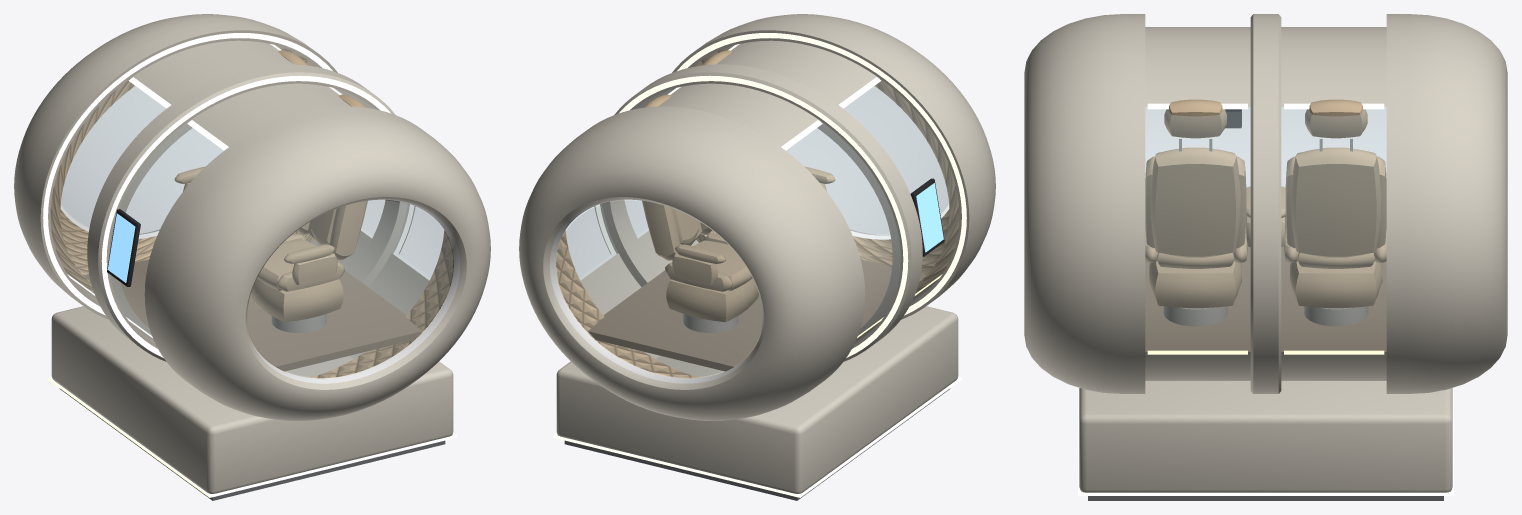
File: duo-v3.glb
3 views of the same model, side by side, from view 1: azimuth 30°, elevation 25°; view 2: azimuth 150°, elevation 25°; view 3: azimuth 270°, elevation 25° (orthographic). The views are drawn at different scales.
Parts seen in each view (by area): view 1: govde_on, kaide, on_cam, govde_arka, orta_dikme, arka_cam, yan_cam.003, ic_zemin, yan_cam.001, tavan_seridi.001, tavan_seridi, ic_arka (+17 smaller); view 2: govde_arka, kaide, arka_cam, govde_on, orta_dikme, ic_zemin, on_cam, yan_cam.003, yan_cam.001, tavan_seridi, tavan_seridi.001, ic_on (+16 smaller); view 3: govde_arka, govde_on, kaide, yan_cam, yan_cam.002, orta_dikme, koltuk_sirt, koltuk_sirt.001, ic_zemin, tavan_seridi, tavan_seridi.001, koltuk_govde (+17 smaller).
Boxes of the visible parts, x1,y1,x2,y2 form: govde_on: (144, 106, 490, 420); kaide: (51, 306, 453, 493); on_cam: (247, 200, 452, 376); govde_arka: (14, 14, 337, 319); orta_dikme: (87, 64, 415, 361); arka_cam: (61, 87, 222, 232); yan_cam.003: (51, 79, 165, 292); ic_zemin: (83, 259, 421, 371); yan_cam.001: (109, 122, 223, 334); tavan_seridi.001: (130, 40, 293, 104); tavan_seridi: (189, 83, 351, 146); ic_arka: (50, 45, 316, 293); govde_arka: (519, 106, 865, 420); kaide: (556, 306, 958, 493); arka_cam: (557, 200, 762, 376); govde_on: (672, 14, 995, 319); orta_dikme: (594, 64, 922, 361); ic_zemin: (588, 259, 926, 371); on_cam: (787, 87, 948, 233); yan_cam.003: (786, 122, 900, 334); yan_cam.001: (844, 79, 958, 292); tavan_seridi: (716, 40, 879, 104); tavan_seridi.001: (658, 83, 820, 146); ic_on: (693, 45, 959, 293); govde_arka: (1386, 14, 1507, 393); govde_on: (1024, 14, 1145, 393); kaide: (1079, 381, 1452, 492); yan_cam: (1145, 107, 1250, 351); yan_cam.002: (1281, 107, 1386, 351); orta_dikme: (1250, 14, 1281, 393); koltuk_sirt: (1150, 147, 1240, 257); koltuk_sirt.001: (1291, 147, 1381, 257); ic_zemin: (1145, 246, 1386, 351); tavan_seridi: (1145, 27, 1250, 106); tavan_seridi.001: (1281, 27, 1386, 106); koltuk_govde: (1149, 261, 1241, 308).
Bounding box in the file's own units: 1.95 × 2 × 2.2.
Materials: 12 (1 with a texture image).
